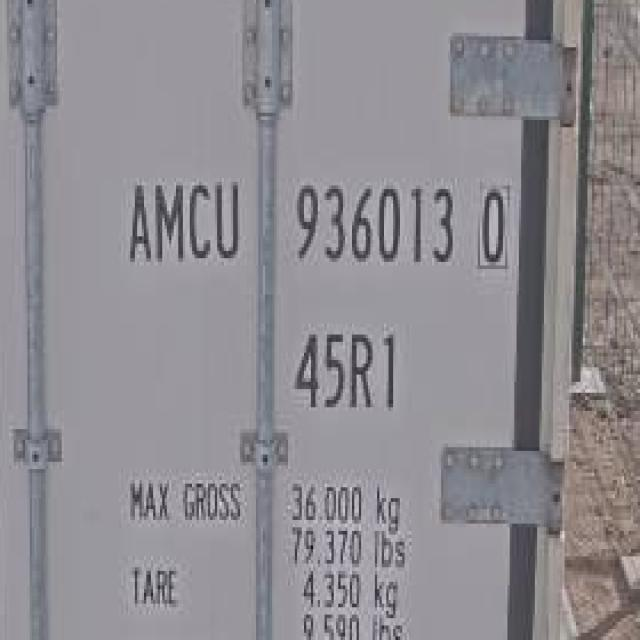dv: (470, 175, 511, 271)
owner: (118, 165, 245, 267)
serial: (291, 173, 455, 278)
size: (291, 320, 404, 416)
